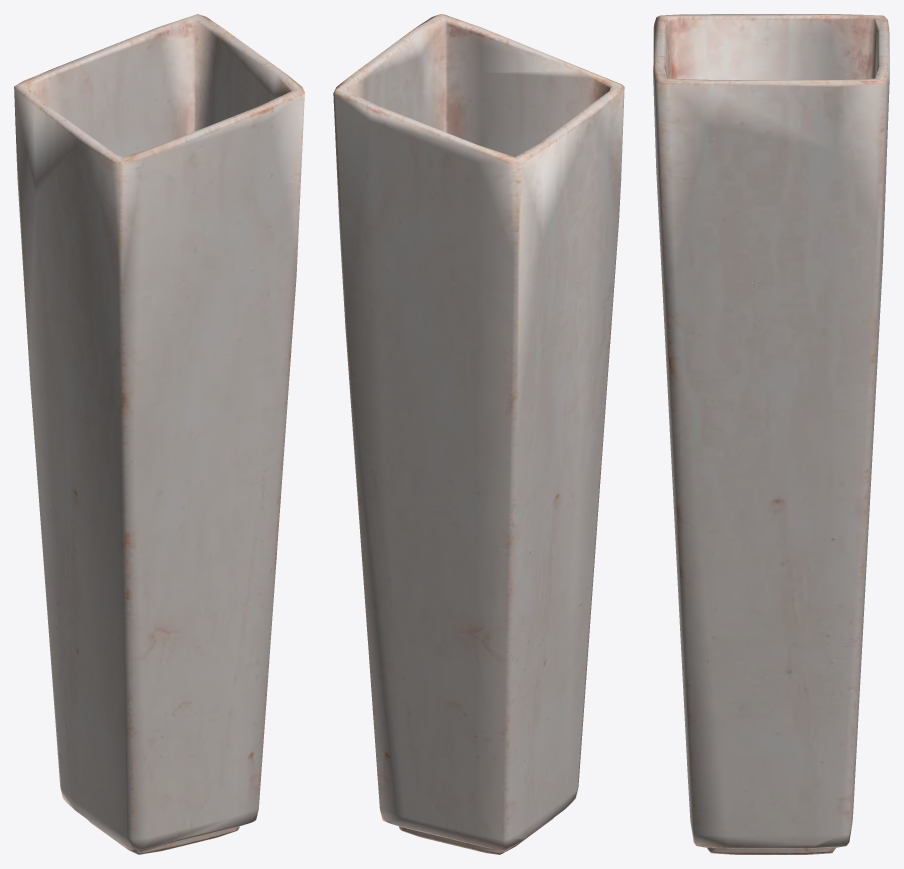
The model's file is ceramic_vase_03.glb.
3 views of the same model, side by side, from view 1: azimuth 30°, elevation 25°; view 2: azimuth 150°, elevation 25°; view 3: azimuth 270°, elevation 25° (orthographic). The views are drawn at different scales.
Parts seen in each view (by area): view 1: ceramic_vase_03; view 2: ceramic_vase_03; view 3: ceramic_vase_03.
Boxes of the visible parts, box(x1,y1,x2,y2) form: ceramic_vase_03: box(14, 14, 304, 854); ceramic_vase_03: box(333, 14, 624, 854); ceramic_vase_03: box(653, 14, 889, 854).
Bounding box in the file's own units: 0.1119 × 0.4143 × 0.1116.
1 material, 1 textured.
